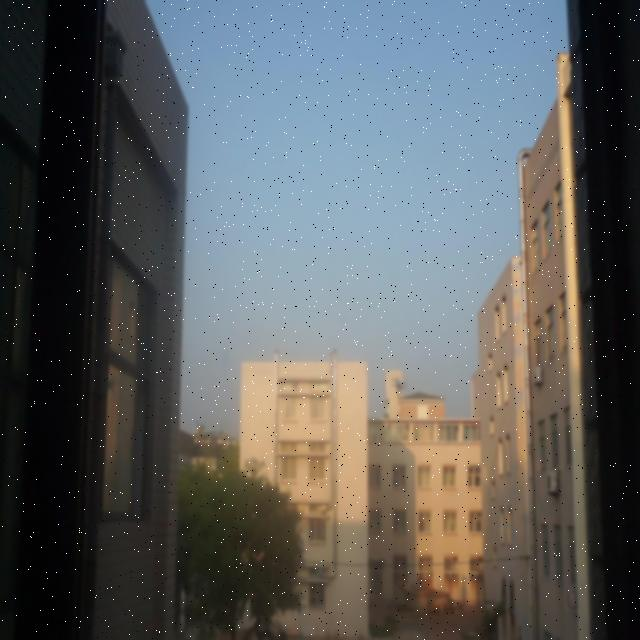UAV: (392, 378, 408, 394)
